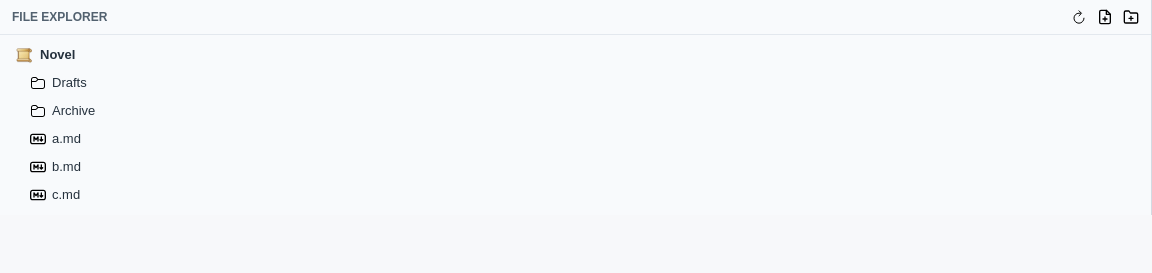
Test case: FileExplorer context-menu Move — enablement (#327) › disables Move… when a selected file is a DIRTY open document (#338)
Step 1. Click the list item "a.md" → (38, 139), box x1=6 y1=125 x2=1145 y2=153
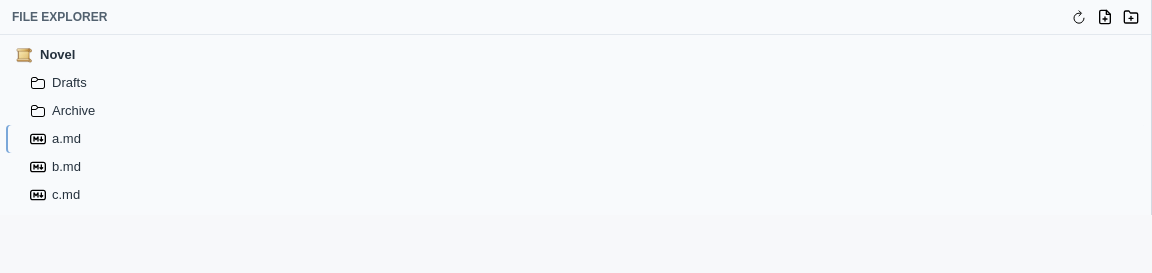
Step 2. Right-click the list item "a.md" → (38, 139), box x1=6 y1=125 x2=1145 y2=153
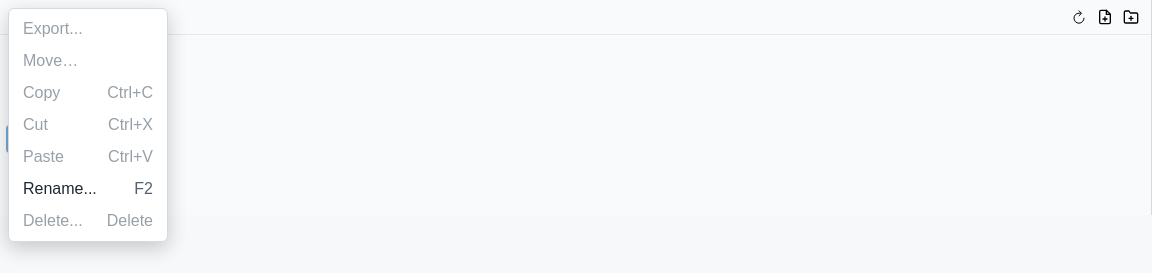
Expected: the menu item "Move…" is disabled, x1=13 y1=45 x2=163 y2=77
